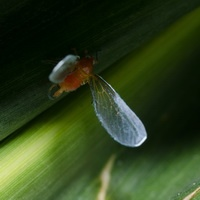insect: (48, 55, 146, 146)
